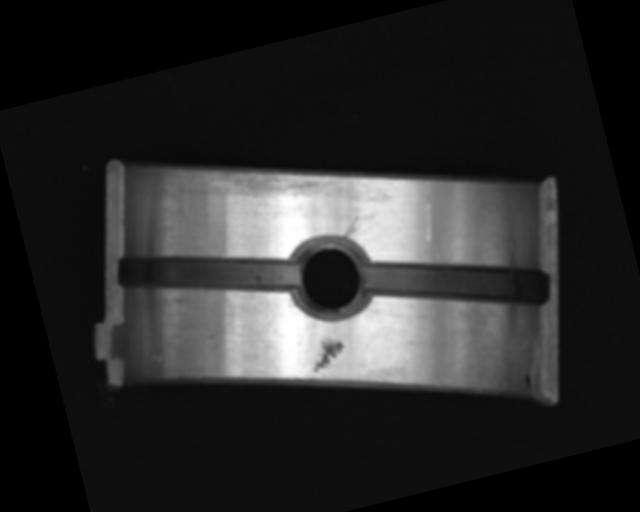blot: (522, 372, 533, 392)
bruise: (304, 332, 349, 373), (203, 327, 227, 343), (147, 351, 163, 366)
gap: (362, 223, 549, 342), (114, 219, 301, 323)
hole: (281, 228, 378, 324)
nick: (410, 176, 440, 242), (338, 216, 362, 237)
scratch: (170, 130, 341, 230)
